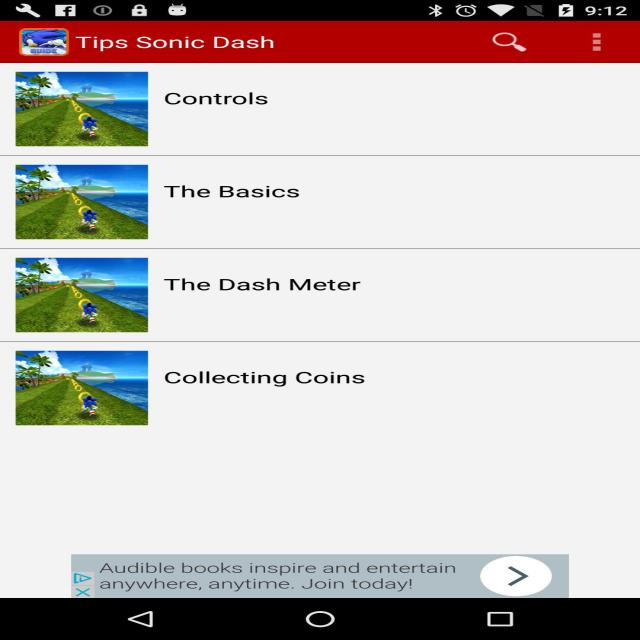image: (7, 66, 160, 417)
text: (192, 78, 238, 419)
